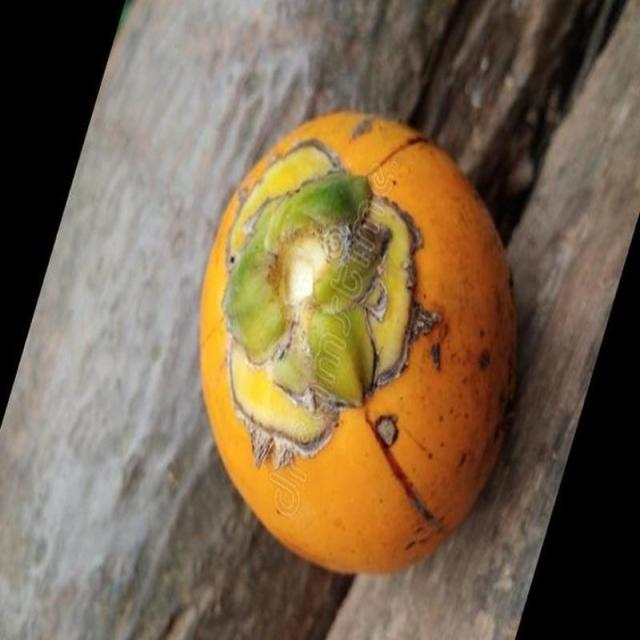good: (200, 116, 514, 576)
